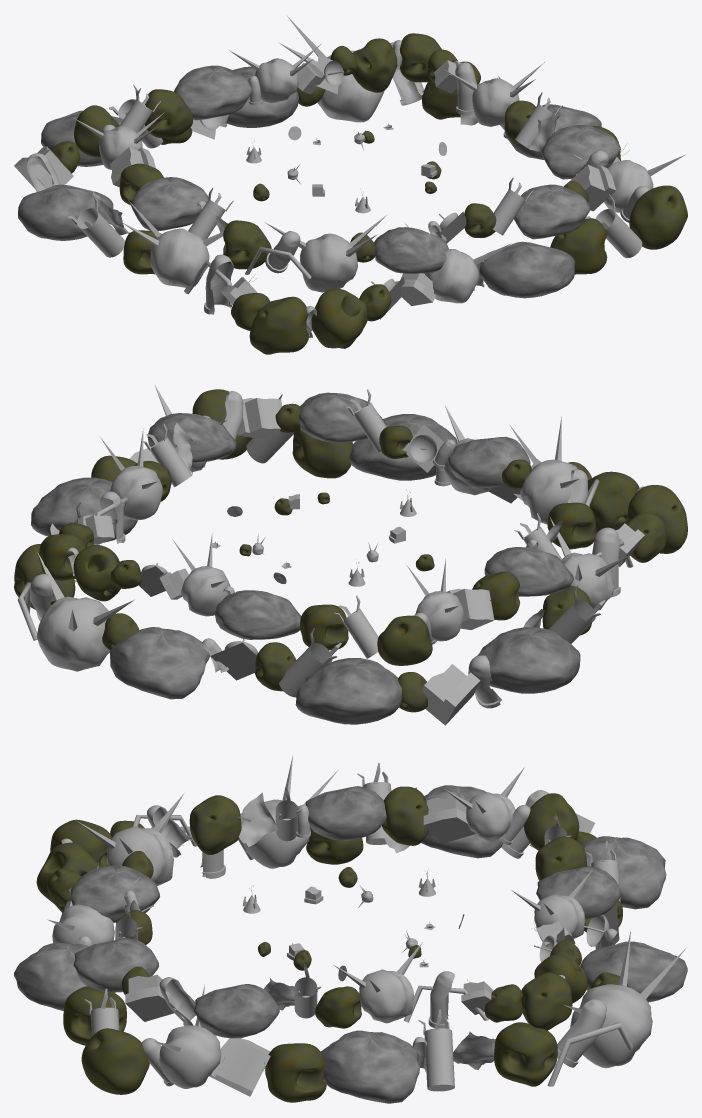
Rendered from Environment.fbx.
The picture shows the model from 3 angles, top to bottom: view 1: azimuth 30°, elevation 25°; view 2: azimuth 150°, elevation 25°; view 3: azimuth 270°, elevation 25°; orthographic projection. The views are drawn at different scales.
Visible parts, largest first — view 1: greyAsteroid_AsteroidGrey (×2), greyAsteroid_AsteroidGrey1 (×2), debris_Debris1 (×2), debris_Debris2 (×2), greyAsteroid_AsteroidGrey3 (×2), asteroid2_Asteroid10 (×2), greyAsteroid_AsteroidGrey2 (×2), asteroid2_Asteroid3 (×2), asteroid1_Asteroid2 (×2), greyAsteroid_AsteroidGrey4 (×2), debris_Debris3 (×2), asteroid2_Asteroid9 (×2) (+22 smaller); view 2: greyAsteroid_AsteroidGrey2 (×2), greyAsteroid_AsteroidGrey3 (×2), greyAsteroid_AsteroidGrey1 (×2), debris_Debris1 (×2), greyAsteroid_AsteroidGrey (×2), greyAsteroid_AsteroidGrey4 (×2), debris_Debris2 (×2), asteroid2_Asteroid10 (×2), asteroid2_Asteroid9 (×2), asteroid2_Asteroid3 (×2), cubeDebris_SpaceDebrisCube1 (×2), asteroid1_Asteroid2 (×2) (+23 smaller); view 3: greyAsteroid_AsteroidGrey4 (×2), debris_Debris1 (×2), greyAsteroid_AsteroidGrey3 (×2), greyAsteroid_AsteroidGrey2 (×2), greyAsteroid_AsteroidGrey (×2), asteroid2_Asteroid2 (×2), greyAsteroid_AsteroidGrey1 (×2), asteroid1_Asteroid2 (×2), asteroid2_Asteroid4 (×2), debris_Debris4 (×2), debris_Debris2 (×2), cubeDebris_SpaceDebrisCube4 (×2) (+22 smaller).
Boxes of the visible parts, left/top/right/bottom form: greyAsteroid_AsteroidGrey (×2): left=174, top=65, right=574, bottom=298; greyAsteroid_AsteroidGrey1 (×2): left=18, top=125, right=620, bottom=240; debris_Debris1 (×2): left=265, top=15, right=387, bottom=292; debris_Debris2 (×2): left=121, top=62, right=544, bottom=287; greyAsteroid_AsteroidGrey3 (×2): left=226, top=66, right=448, bottom=273; asteroid2_Asteroid10 (×2): left=311, top=38, right=397, bottom=348; greyAsteroid_AsteroidGrey2 (×2): left=41, top=110, right=590, bottom=239; asteroid2_Asteroid3 (×2): left=249, top=33, right=441, bottom=354; asteroid1_Asteroid2 (×2): left=74, top=105, right=687, bottom=249; greyAsteroid_AsteroidGrey4 (×2): left=131, top=104, right=601, bottom=231; debris_Debris3 (×2): left=229, top=43, right=511, bottom=303; asteroid2_Asteroid9 (×2): left=145, top=89, right=607, bottom=274; greyAsteroid_AsteroidGrey2 (×2): left=295, top=392, right=401, bottom=724; greyAsteroid_AsteroidGrey3 (×2): left=110, top=436, right=530, bottom=699; greyAsteroid_AsteroidGrey1 (×2): left=147, top=413, right=580, bottom=693; debris_Debris1 (×2): left=36, top=417, right=578, bottom=671; greyAsteroid_AsteroidGrey (×2): left=215, top=414, right=457, bottom=639; greyAsteroid_AsteroidGrey4 (×2): left=31, top=477, right=573, bottom=596; debris_Debris2 (×2): left=100, top=429, right=628, bottom=610; asteroid2_Asteroid10 (×2): left=73, top=471, right=639, bottom=601; asteroid2_Asteroid9 (×2): left=292, top=430, right=352, bottom=650; asteroid2_Asteroid3 (×2): left=39, top=485, right=687, bottom=580; cubeDebris_SpaceDebrisCube1 (×2): left=237, top=398, right=480, bottom=725; asteroid1_Asteroid2 (×2): left=192, top=389, right=432, bottom=665; greyAsteroid_AsteroidGrey4 (×2): left=305, top=786, right=419, bottom=1103; debris_Debris1 (×2): left=76, top=794, right=686, bottom=1068; greyAsteroid_AsteroidGrey3 (×2): left=70, top=865, right=687, bottom=1002; greyAsteroid_AsteroidGrey2 (×2): left=73, top=836, right=666, bottom=992; greyAsteroid_AsteroidGrey (×2): left=14, top=866, right=621, bottom=1010; asteroid2_Asteroid2 (×2): left=189, top=795, right=557, bottom=1086; greyAsteroid_AsteroidGrey1 (×2): left=194, top=785, right=503, bottom=1038; asteroid1_Asteroid2 (×2): left=81, top=793, right=579, bottom=1094; asteroid2_Asteroid4 (×2): left=265, top=786, right=428, bottom=1102; debris_Debris4 (×2): left=154, top=767, right=524, bottom=1088; debris_Debris2 (×2): left=237, top=755, right=422, bottom=1023; cubeDebris_SpaceDebrisCube4 (×2): left=209, top=797, right=475, bottom=1096.
Bounding box in the file's own units: 23.81 × 5 × 23.25.
